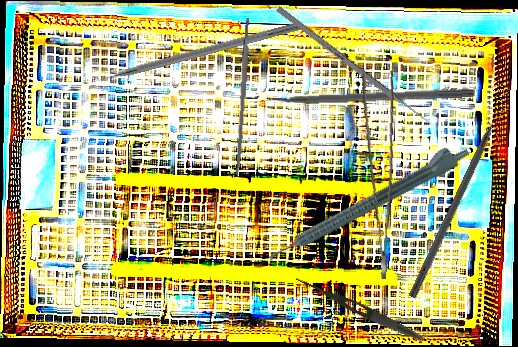Dressing Forceps: (291, 273, 427, 345)
Handpiece: (261, 136, 472, 265)
Hook Surgical: (408, 100, 509, 300), (89, 19, 300, 86)
Pusher: (275, 6, 436, 129), (248, 86, 476, 106)
Scalpel Handle: (233, 17, 253, 176)
Tissue Forceps: (345, 68, 404, 280)
